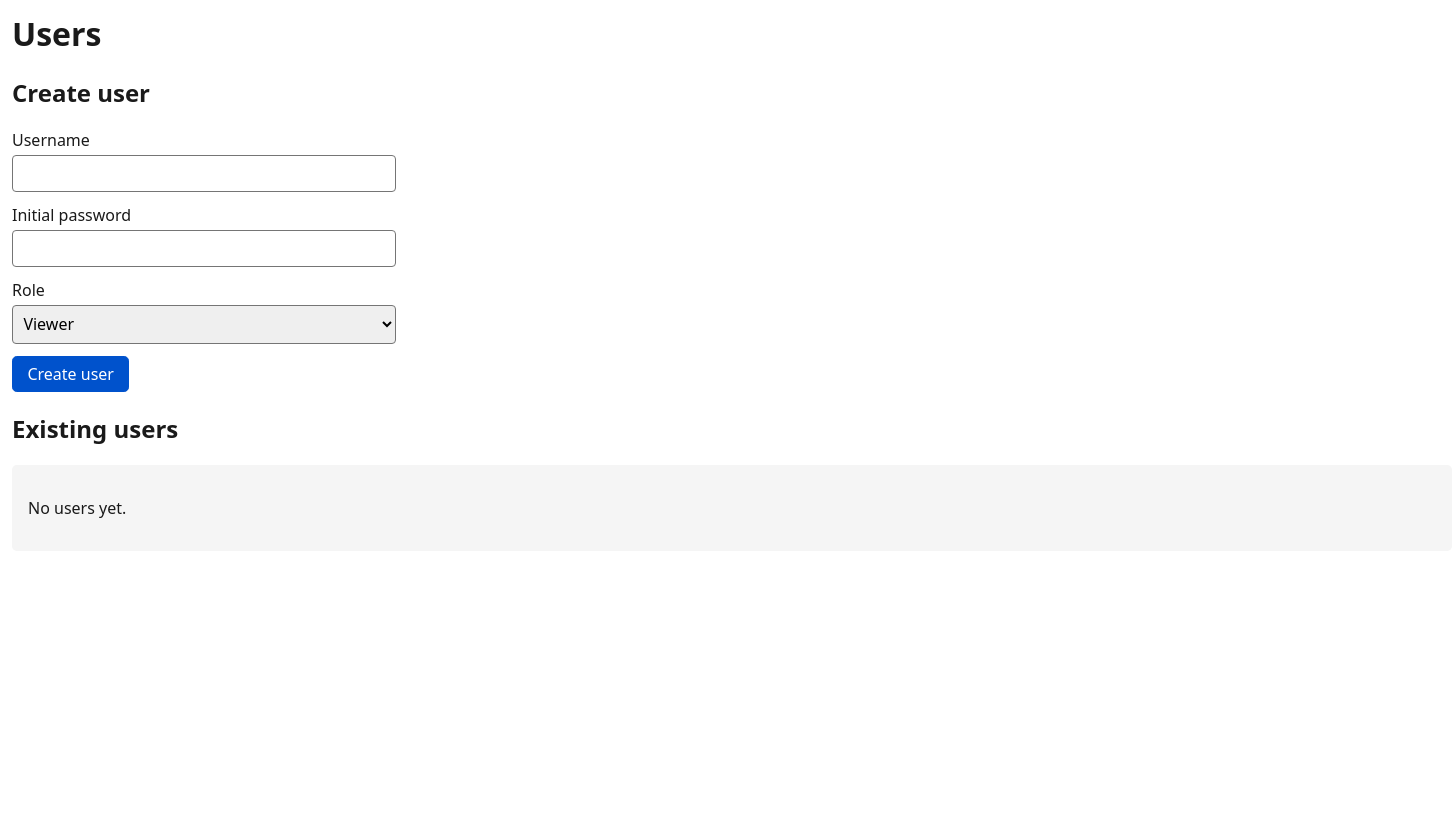
Scenario: UsersScreen › Admin: creating a user shows a distinct success confirmation and reloads the list
Expected: the text "No users yet." is shown, [28,497,126,519]
Step 1. Type "bob" into the field labelled "Username" → (204, 174), box [12,155,396,192]
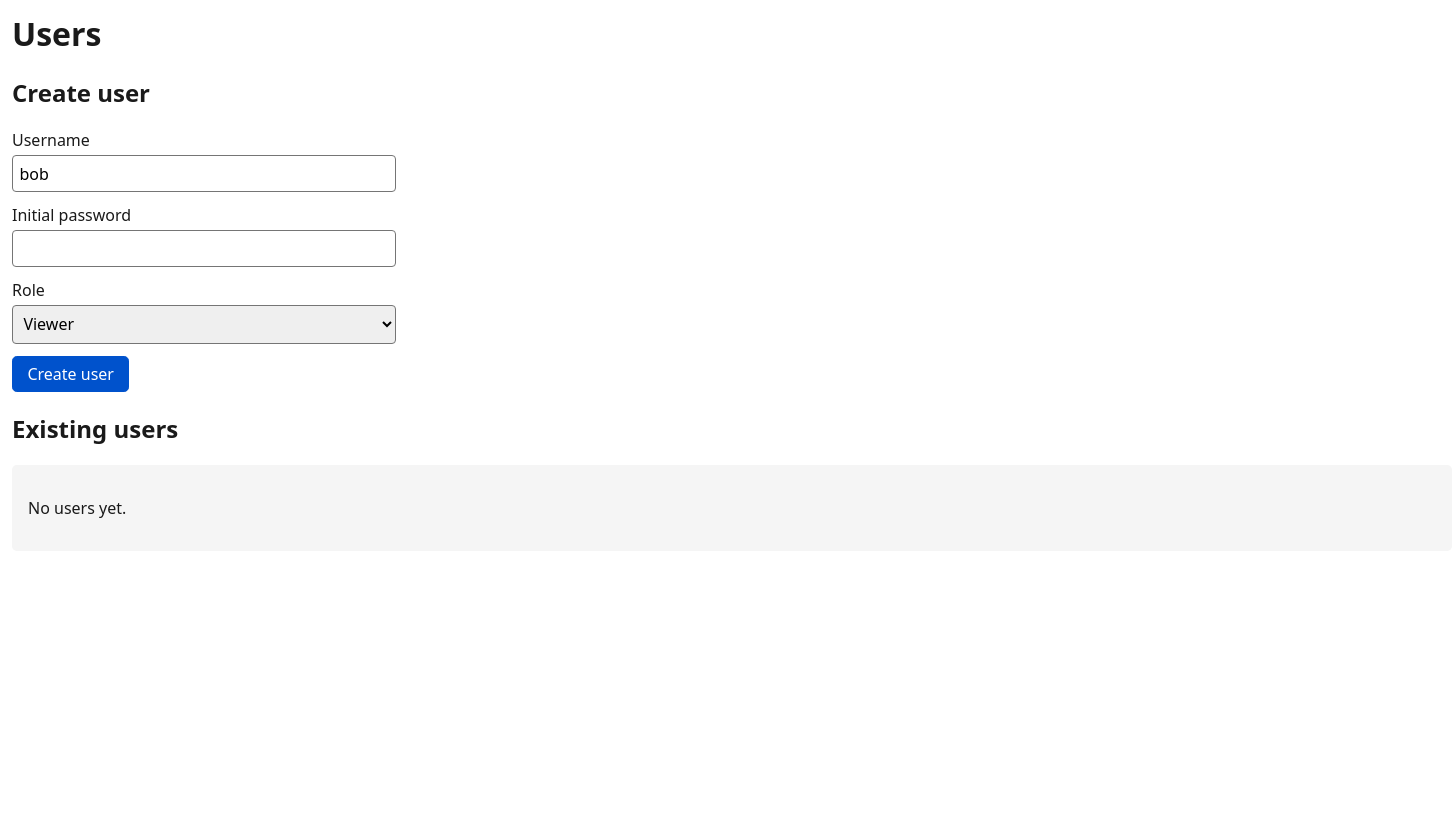
Step 2. Type "a-very-long-password" into the password field labelled "Initial password" → (204, 248), box [12,230,396,267]
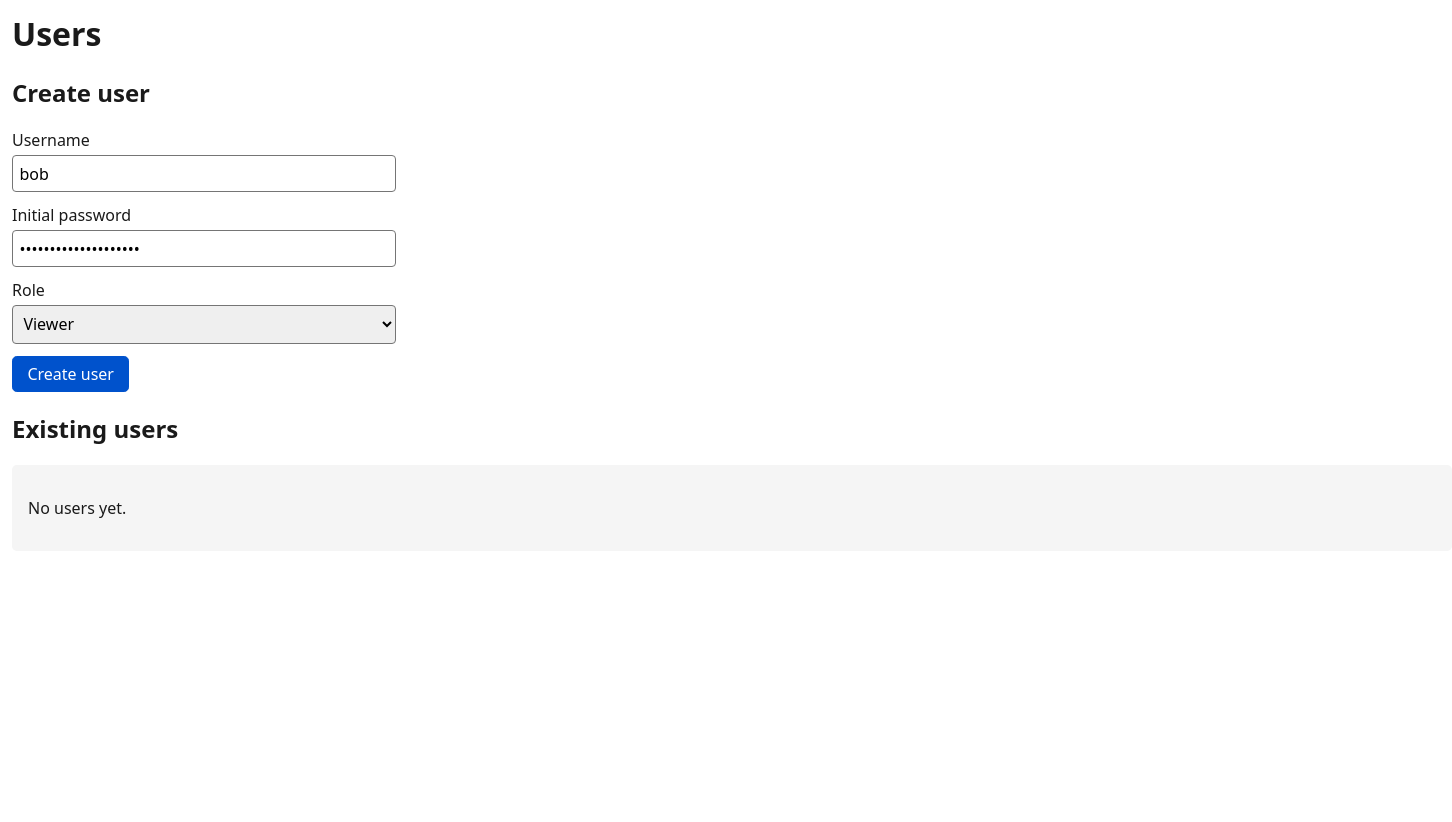
Step 3. Click the button "Create user" → (71, 374), box [12,356,129,392]
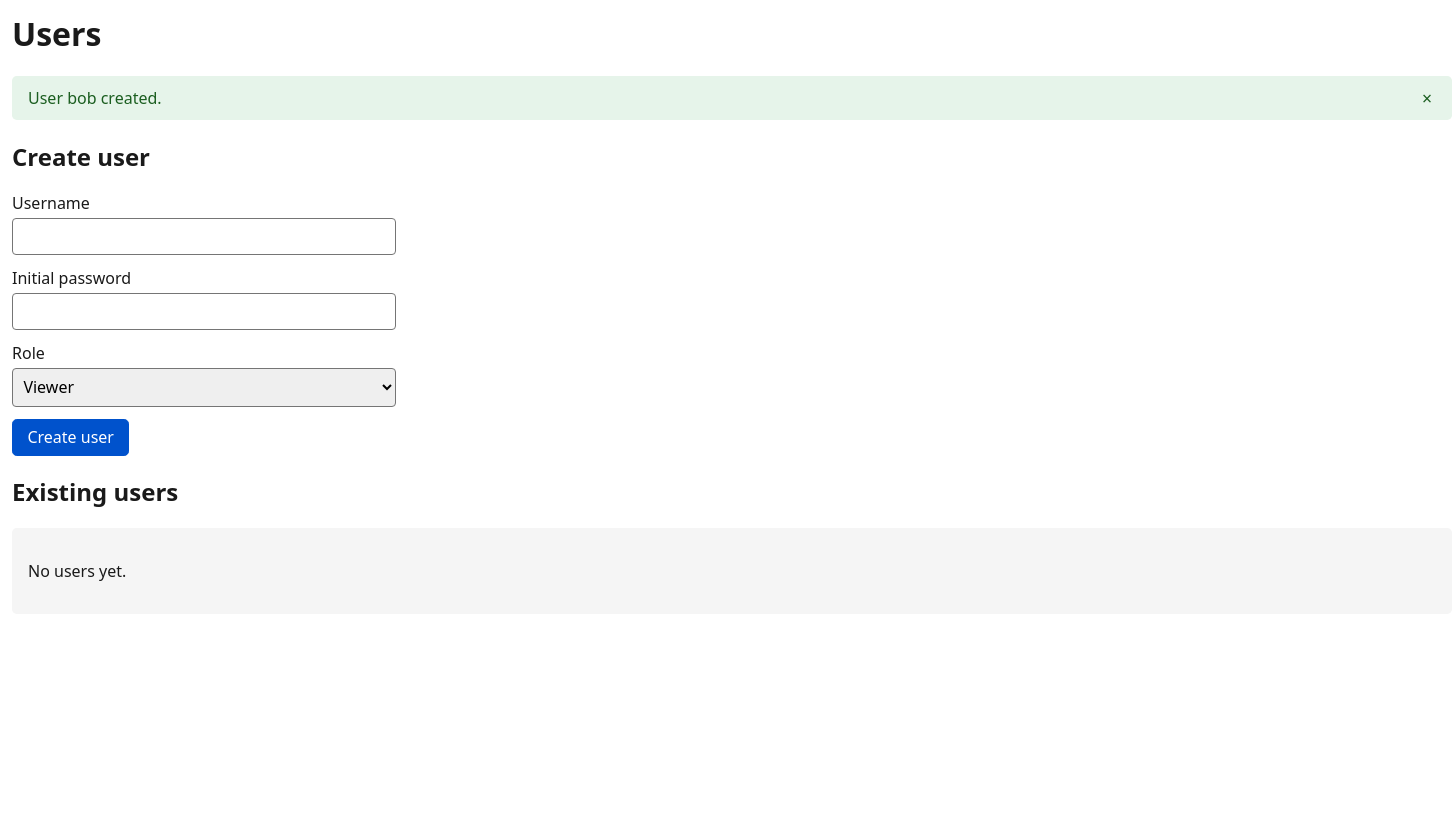
Now the message with test id "notice" shows "User bob created", box [28,87,162,109]
